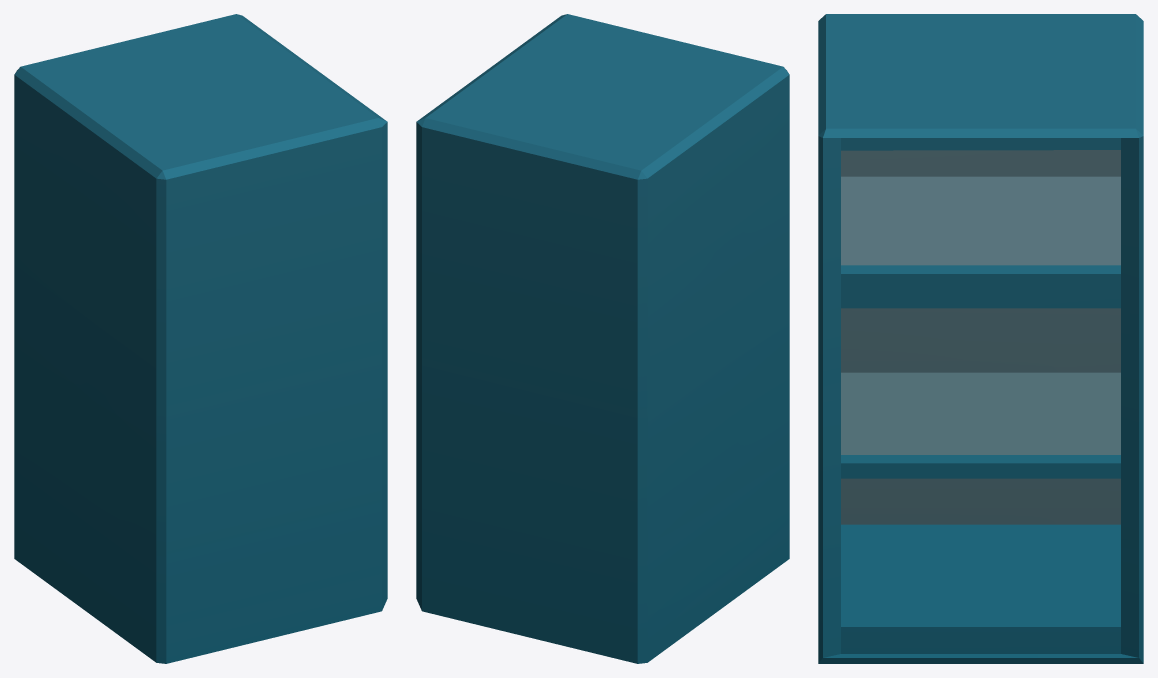
Rendered from fridge1.glb.
The picture shows the model from 3 angles, left to right: view 1: azimuth 30°, elevation 25°; view 2: azimuth 150°, elevation 25°; view 3: azimuth 270°, elevation 25°; orthographic projection. The views are drawn at different scales.
Parts seen in each view (by area): view 1: Fridge1.001; view 2: Fridge1.001; view 3: Fridge1.001.
Boxes of the visible parts, box(x1,y1,x2,y2) form: Fridge1.001: box(14, 14, 387, 663); Fridge1.001: box(416, 14, 789, 663); Fridge1.001: box(818, 14, 1143, 663).
Size of the model in its own units: 0.8887 by 1.81 by 1.
Materials: 1 (1 with a texture image).
